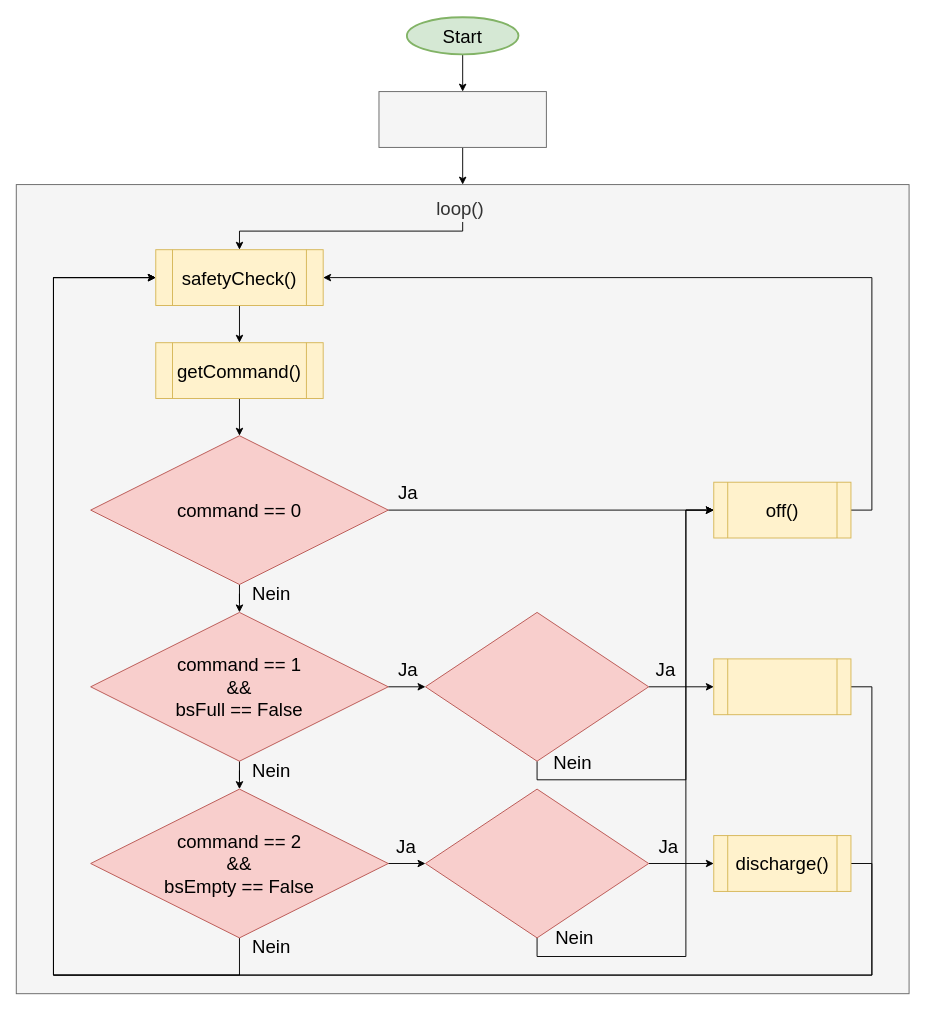
This 925x1010 diagram has some shape labels left out. The box of each missing label's shape, as (x1, y1, x2, y2) in pixels:
charge(): (713, 658, 851, 715)
powerHousehold < 0: (425, 611, 649, 761)
powerHousehold > 0: (425, 788, 649, 938)
setup(): (378, 91, 546, 147)
